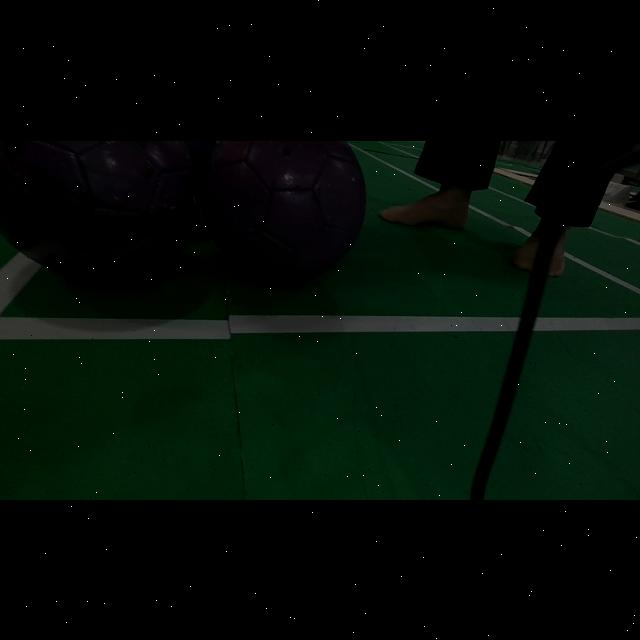B: (183, 140, 217, 181)
P: (0, 140, 200, 280), (202, 140, 366, 280)
